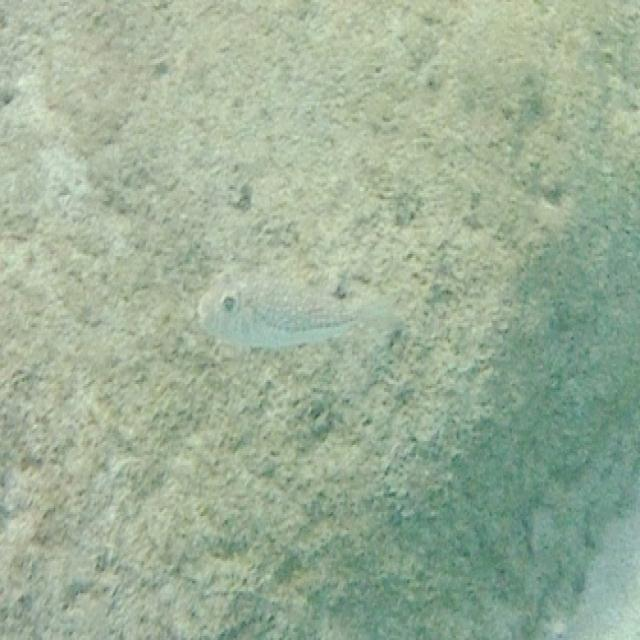Balik: (199, 277, 390, 349)
